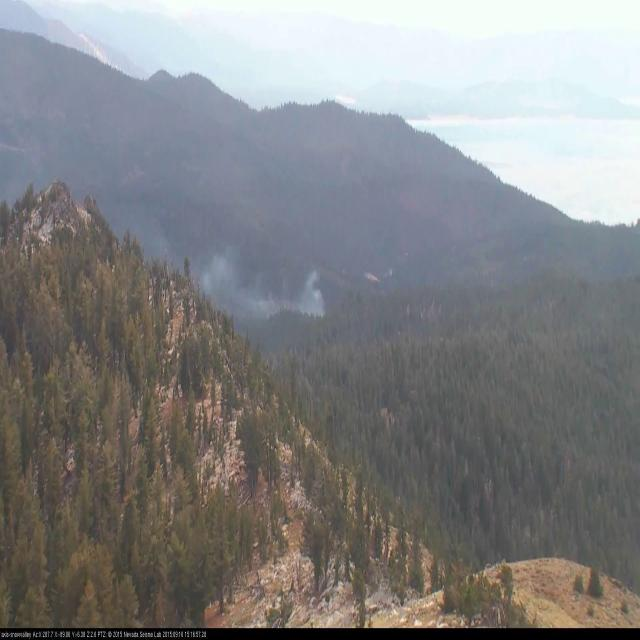smoke: (201, 232, 338, 336)
